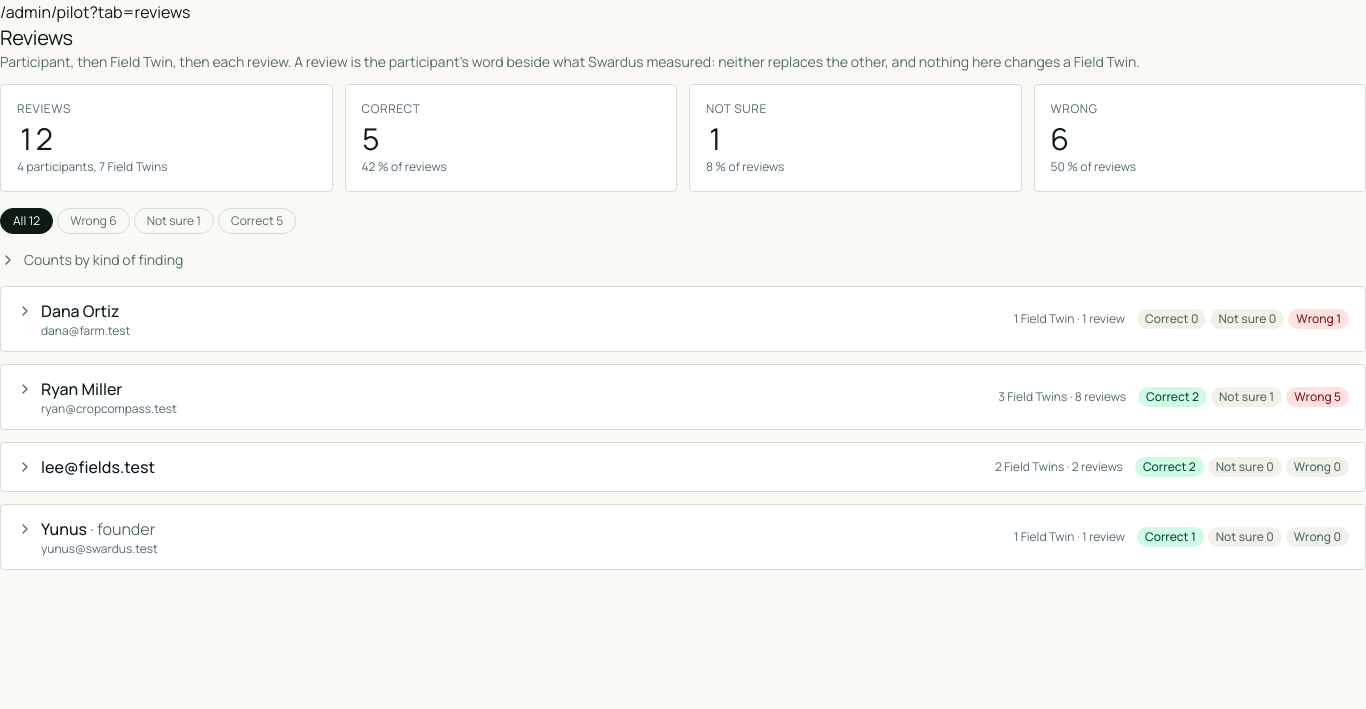
the Reviews tab › a participant opens to their Field Twins, a Field Twin to its reviews; each review shows both readings, and is on the page once
What coordinates should you click on to do the following:
click the button "Ryan Miller"
I would click on:
 (82, 389)
Its box is [1,365,1365,429].
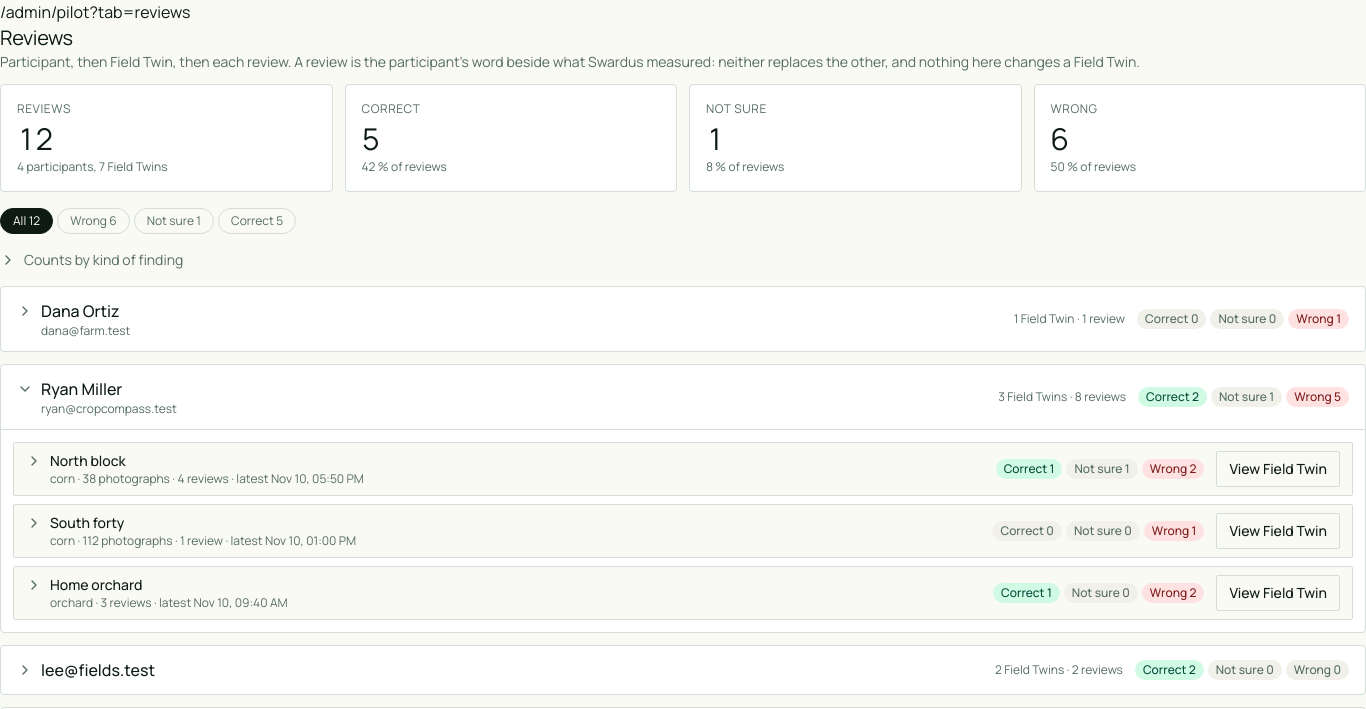
Expected: the list item "North block" shows "corn · 38 photographs · 4 reviews · latest"
Expected: the 1st text "Wrong 2" is shown, [1142,459,1204,479]
Expected: the list item "Home orchard" shows "orchard · 3 reviews", [26,575,977,611]
What coordinates should you click on to do the following:
click the button "North block"
I would click on:
 (88, 460)
Its box is [26,451,980,487].
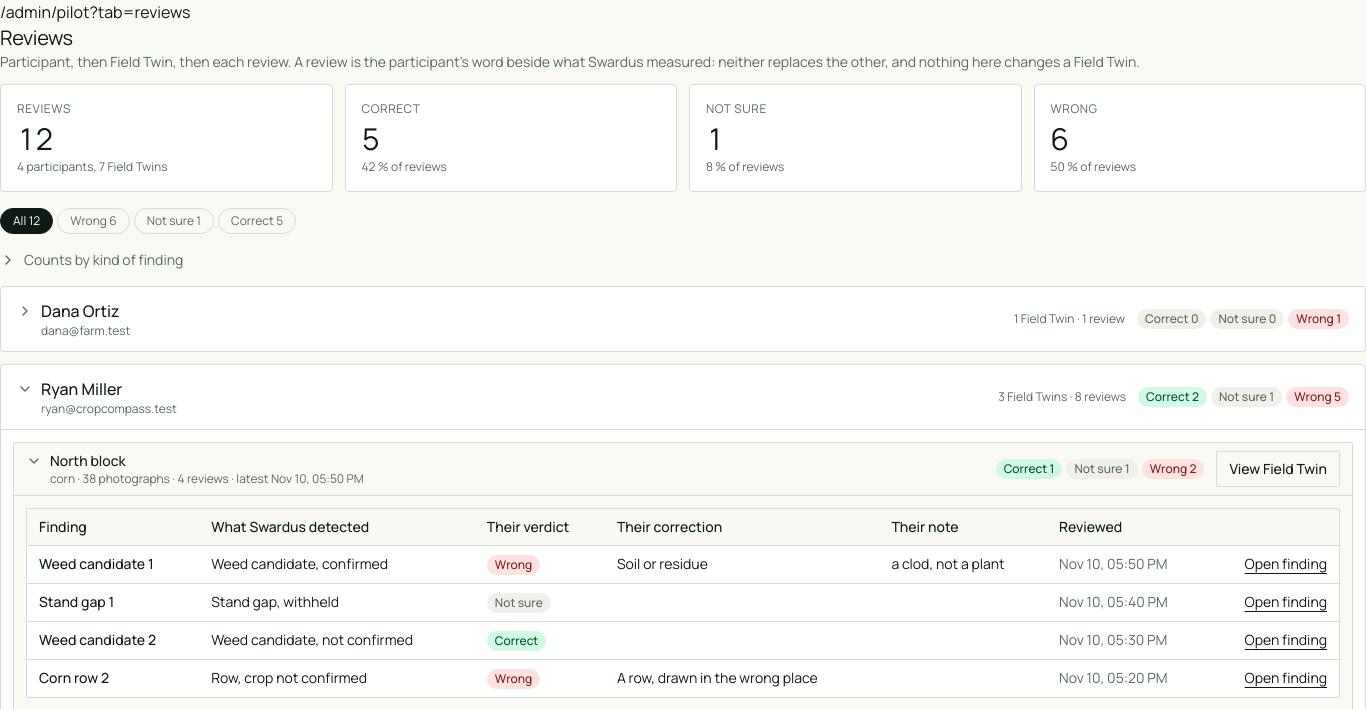
Expected: the cell does not show ""
Expected: the text "a clod, not a plant" is shown once, [880,546,1047,584]
Note: Closing it takes its reviews off the page again.
What coordinates should you click on to do the following:
click the button "North block"
I would click on:
 (88, 460)
Its box is [26,451,980,487].
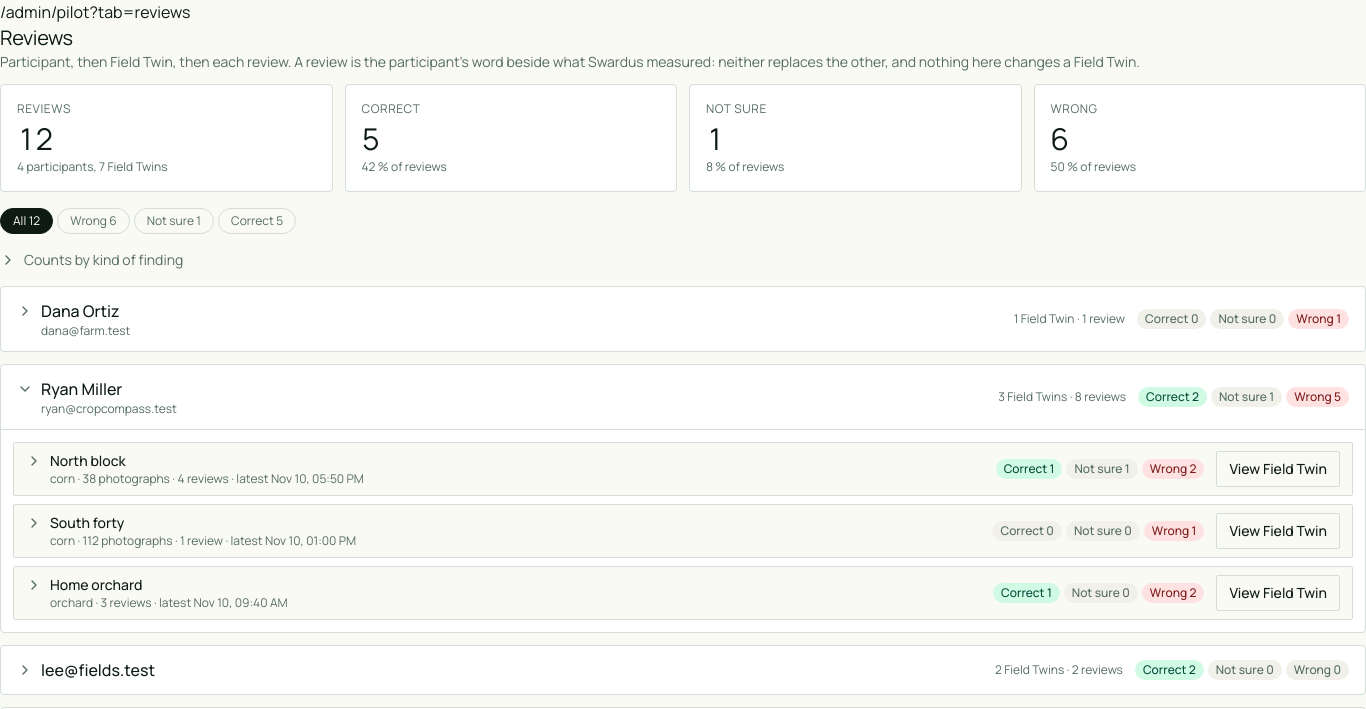
Expected: the text "a clod, not a plant" is gone
